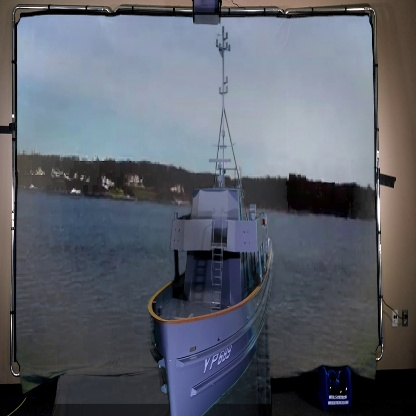YP689: (144, 25, 276, 413)
